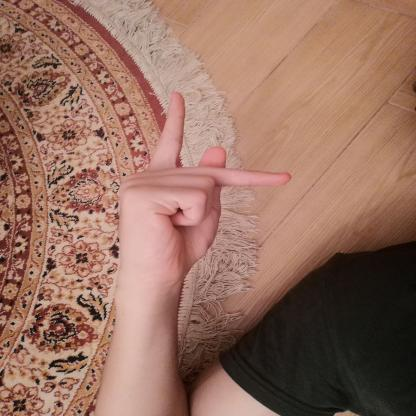DHAA: (101, 84, 302, 294)
